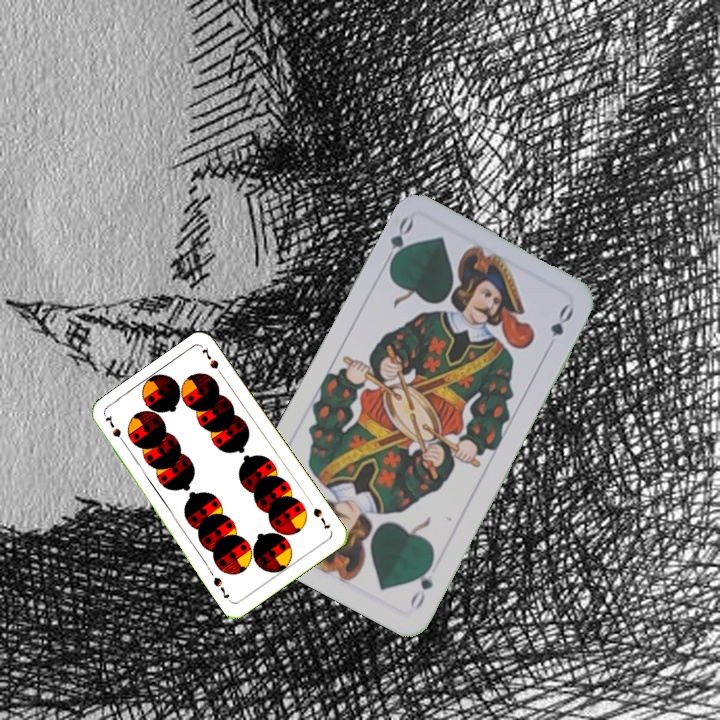GO: (379, 213, 416, 271), (406, 556, 436, 612)
S7: (101, 411, 129, 448), (309, 504, 333, 531)
